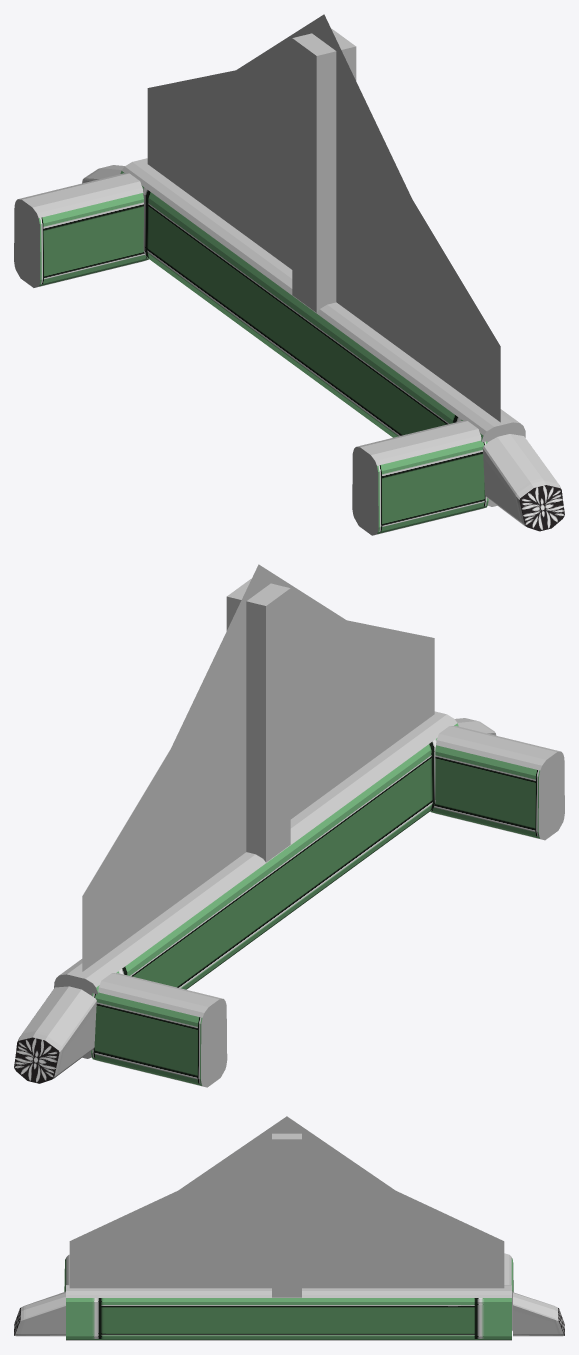
Rendered from SM_R_MiddleBeam_6.fbx.
The picture shows the model from 3 angles, top to bottom: view 1: azimuth 30°, elevation 25°; view 2: azimuth 150°, elevation 25°; view 3: azimuth 270°, elevation 25°; orthographic projection. The views are drawn at different scales.
Visible parts, largest first — view 1: SM_R_MiddleBeam_6_LOD0; view 2: SM_R_MiddleBeam_6_LOD0; view 3: SM_R_MiddleBeam_6_LOD0.
Part boxes in pixels (left/top/right/bottom): SM_R_MiddleBeam_6_LOD0: left=14, top=14, right=564, bottom=535; SM_R_MiddleBeam_6_LOD0: left=14, top=564, right=564, bottom=1087; SM_R_MiddleBeam_6_LOD0: left=14, top=1116, right=564, bottom=1340.
Bounding box in the file's own units: 68.56 × 356 × 160.
